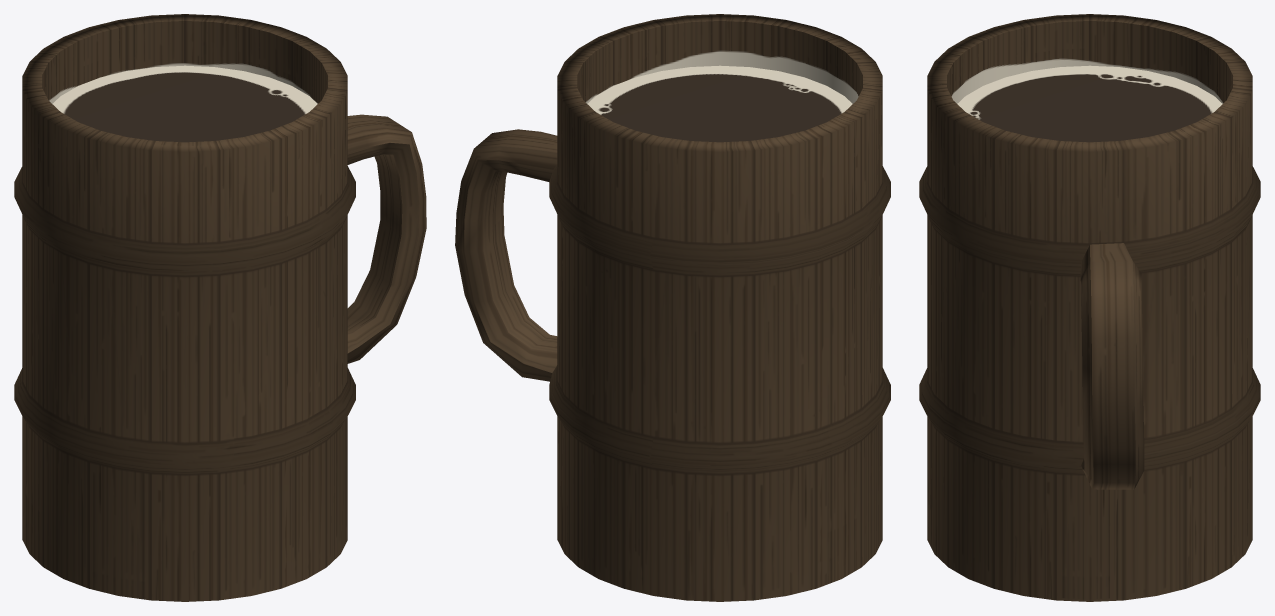
File: Cup.fbx
3 views of the same model, side by side, from view 1: azimuth 30°, elevation 25°; view 2: azimuth 150°, elevation 25°; view 3: azimuth 270°, elevation 25° (orthographic).
Parts seen in each view (by area): view 1: pCylinder6; view 2: pCylinder6; view 3: pCylinder6.
Boxes of the visible parts, left/top/right/bottom form: pCylinder6: left=14, top=14, right=426, bottom=601; pCylinder6: left=455, top=14, right=890, bottom=601; pCylinder6: left=919, top=14, right=1260, bottom=601.
Bounding box in the file's own units: 201 × 221 × 152.
1 material, 1 textured.
